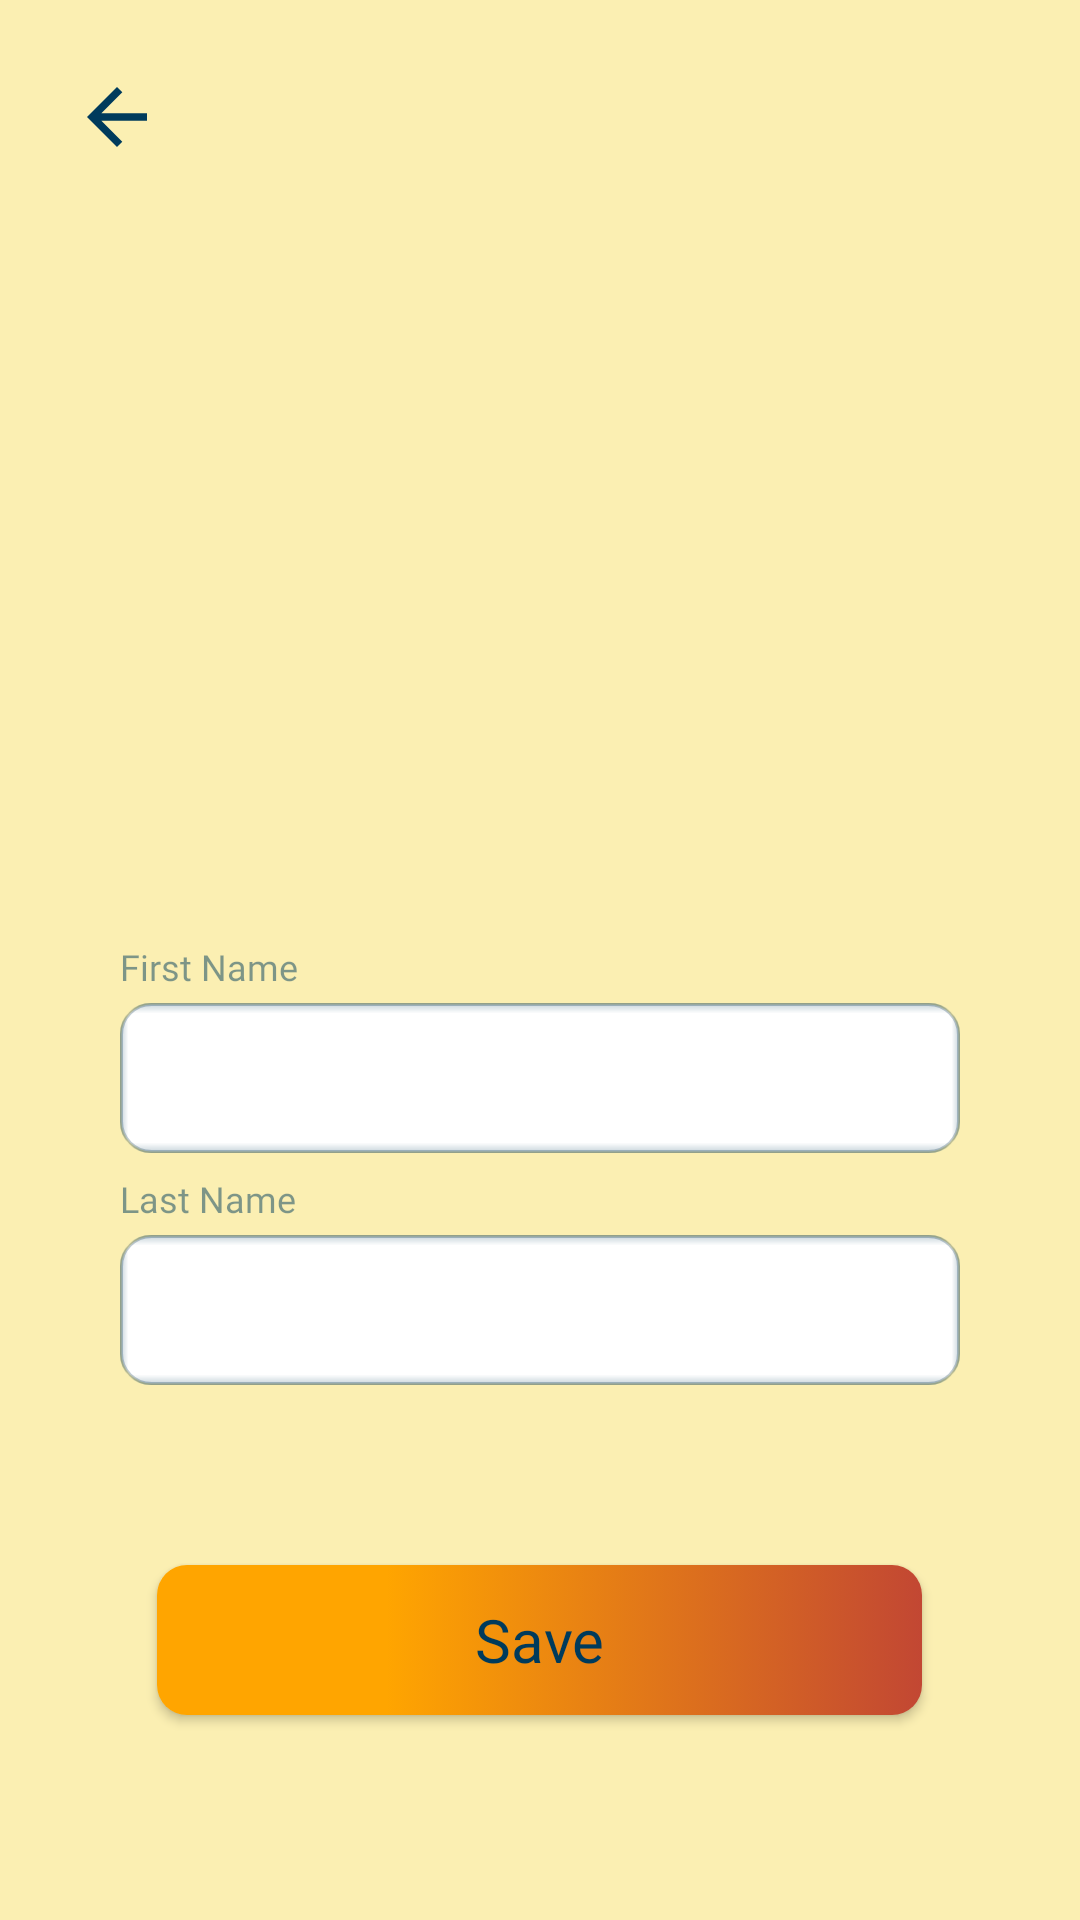

Named icons in this screenshot (1080 x 1920) and their centers, point (x, y):
arrow back: point (117, 117)
